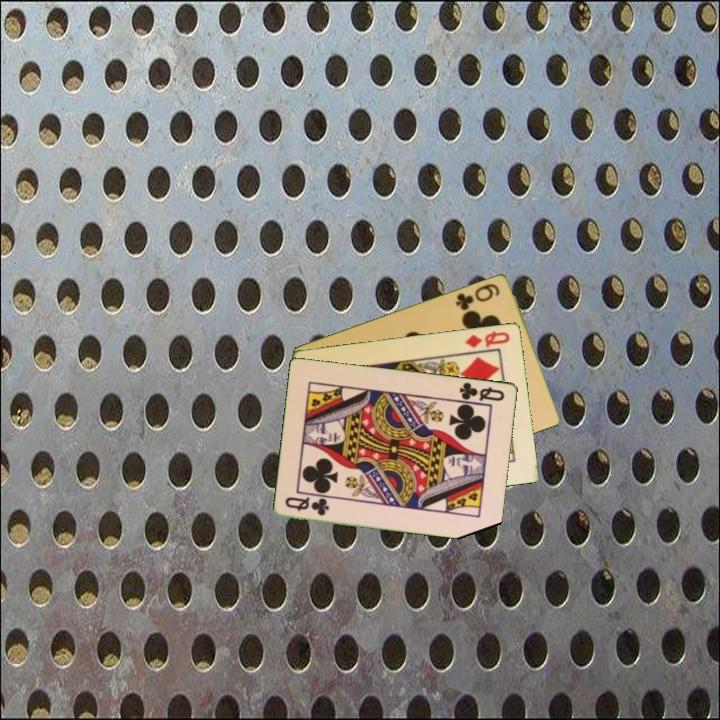6c: (452, 279, 503, 313)
Qc: (456, 378, 508, 404), (282, 493, 332, 518)
Qd: (461, 327, 513, 350)
